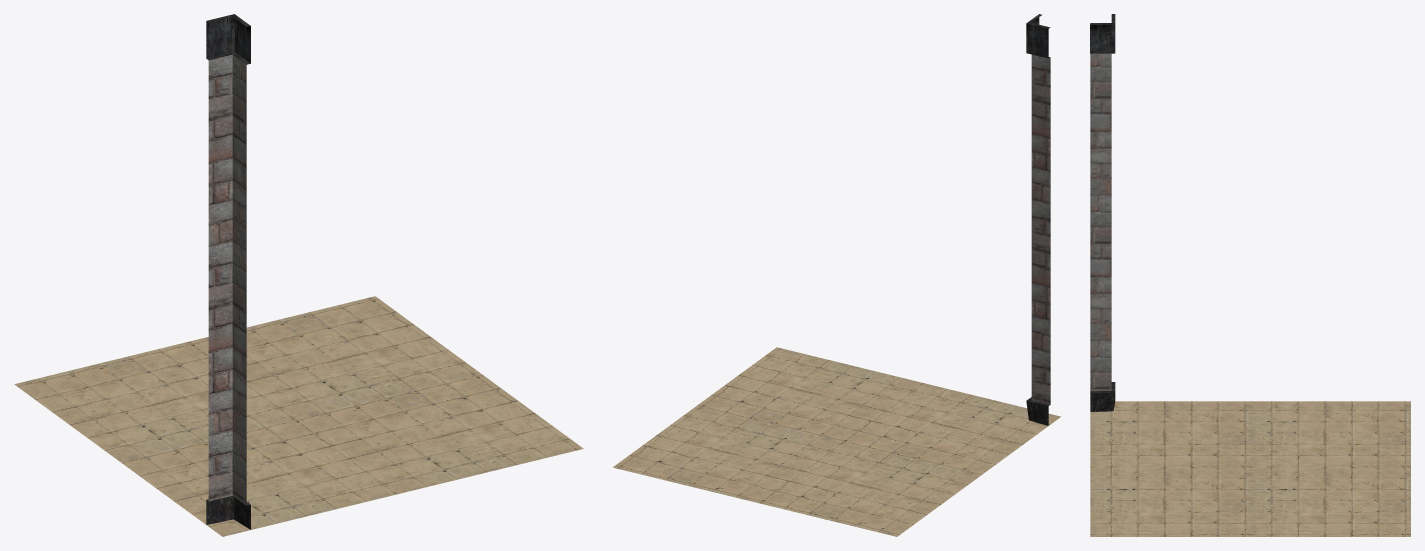
The model's file is ts001ocg001.obj.
3 views of the same model, side by side, from view 1: azimuth 30°, elevation 25°; view 2: azimuth 150°, elevation 25°; view 3: azimuth 270°, elevation 25° (orthographic). The views are drawn at different scales.
Parts seen in each view (by area): view 1: Box105; view 2: Box105; view 3: Box105.
Boxes of the visible parts, x1,y1,x2,y2 form: Box105: [14, 14, 583, 536]; Box105: [613, 14, 1060, 536]; Box105: [1090, 14, 1410, 536].
Bounding box in the file's own units: 3 × 4 × 3.
Materials: 3 (3 with a texture image).
